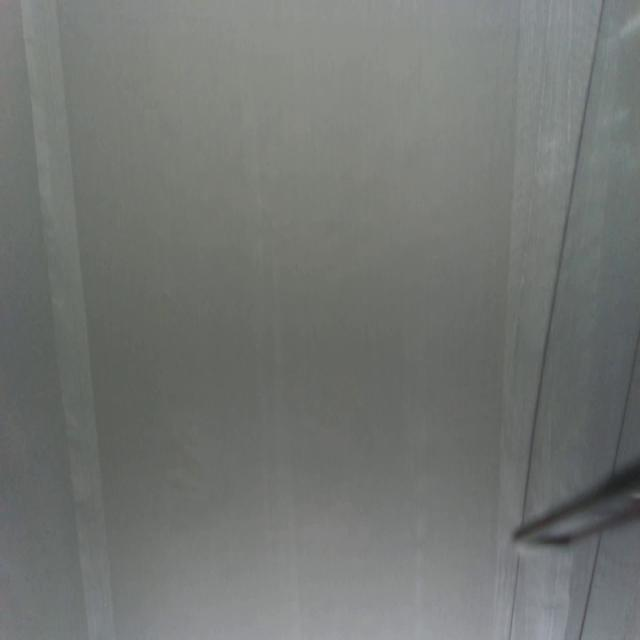crease: (22, 3, 118, 638), (520, 0, 606, 520), (608, 332, 640, 467), (577, 530, 601, 640), (506, 551, 523, 639)
